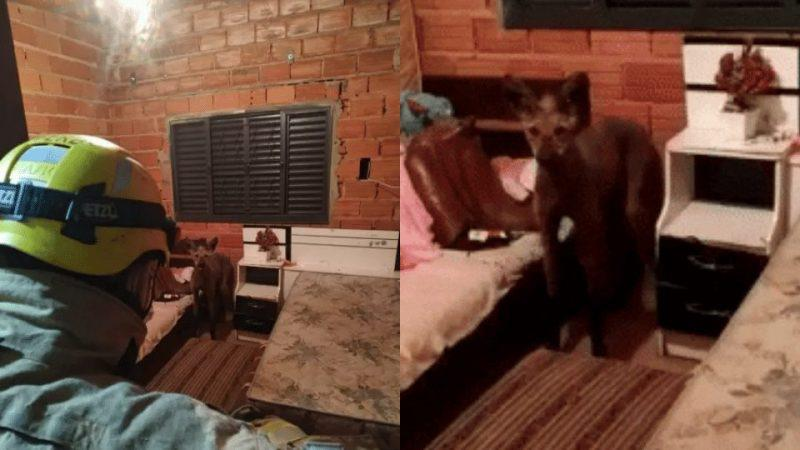LoboGuara: (498, 60, 663, 375), (184, 230, 236, 343)
